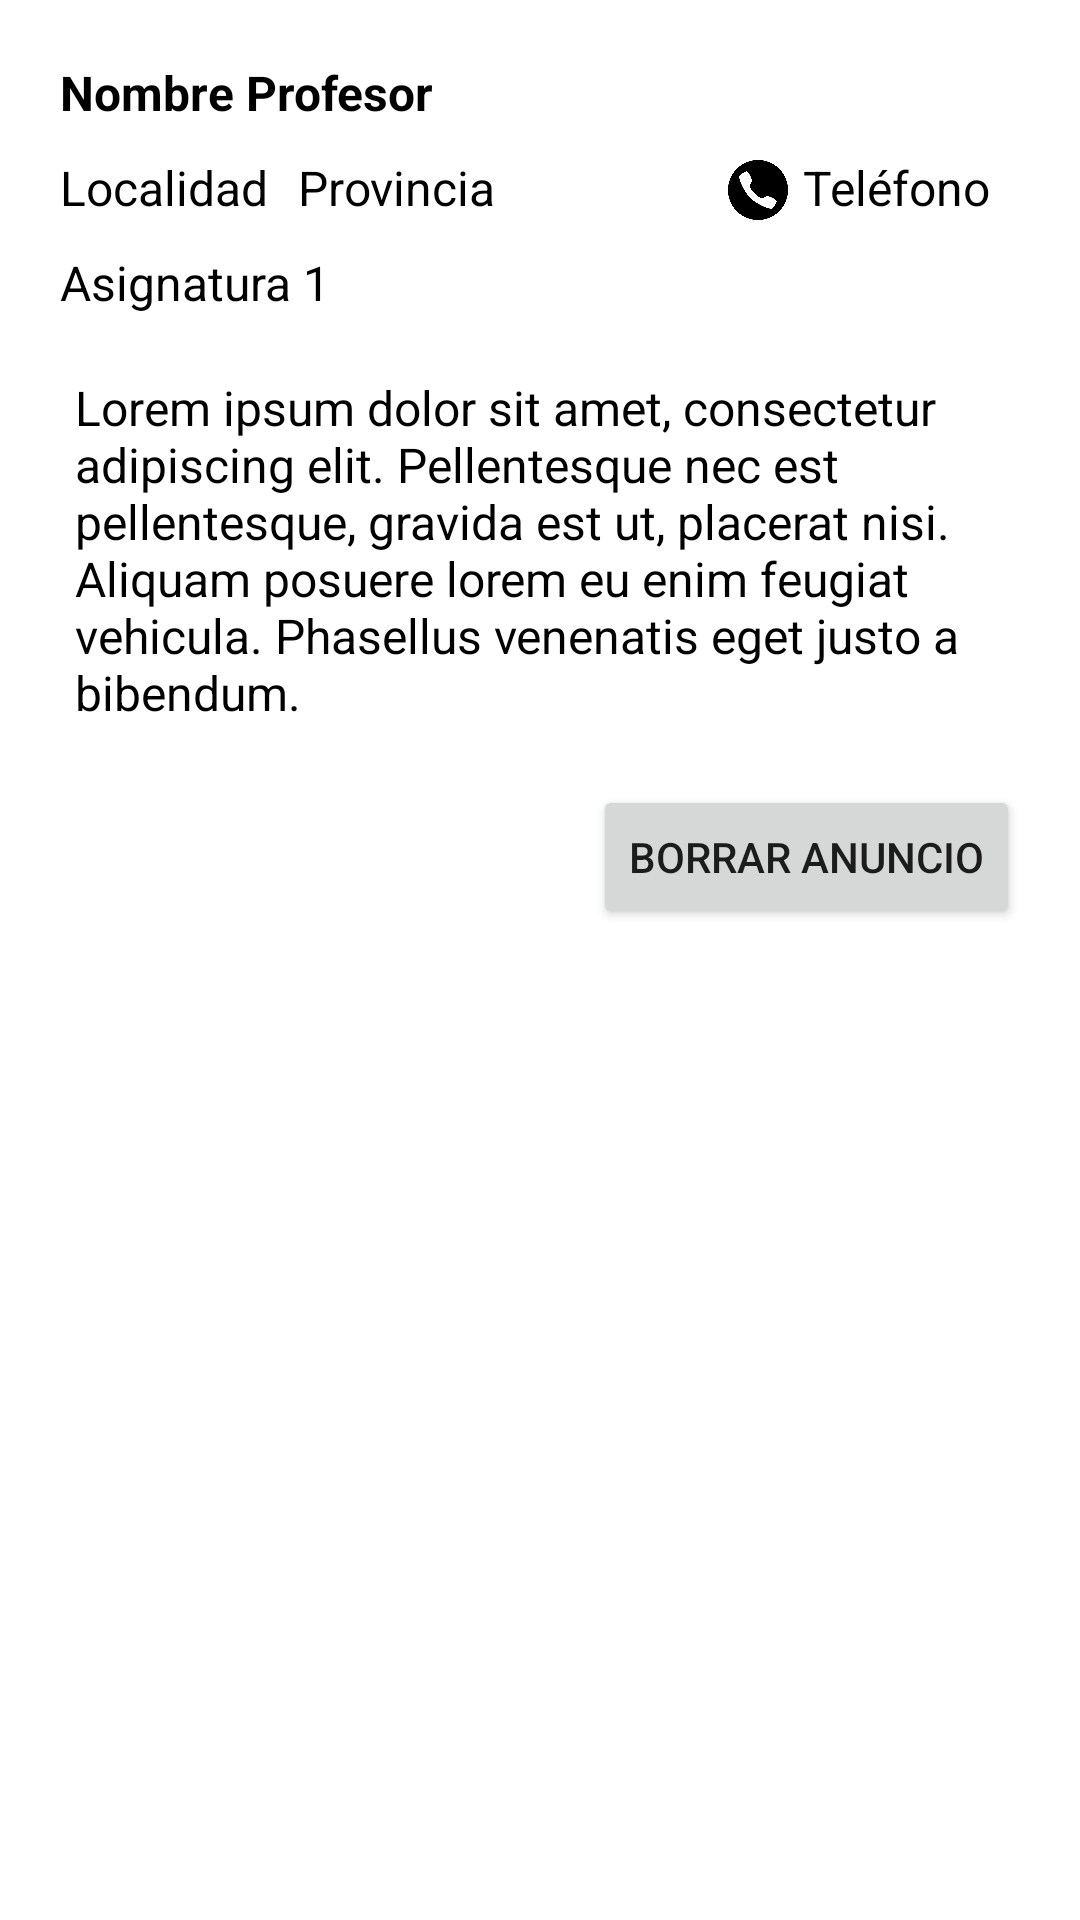

Icons on this 1080w x 1920h Android screen, each with its box as (x1, y1, x2, y2):
phone: (728, 160, 788, 220)
